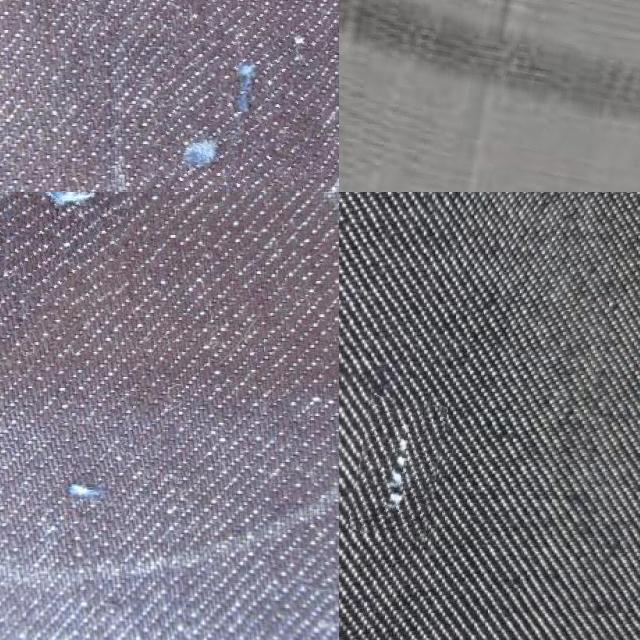Thread_other: (339, 0, 640, 192), (152, 0, 323, 192), (0, 192, 139, 304), (46, 403, 147, 532), (354, 396, 442, 538)
